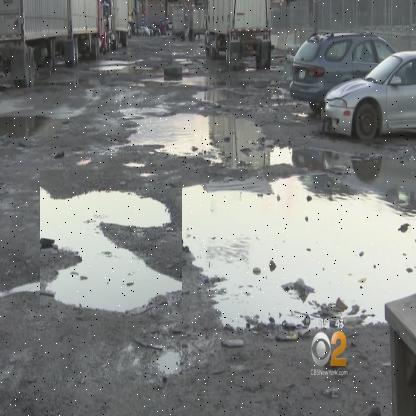pothole_water_m: (40, 170, 183, 322)
